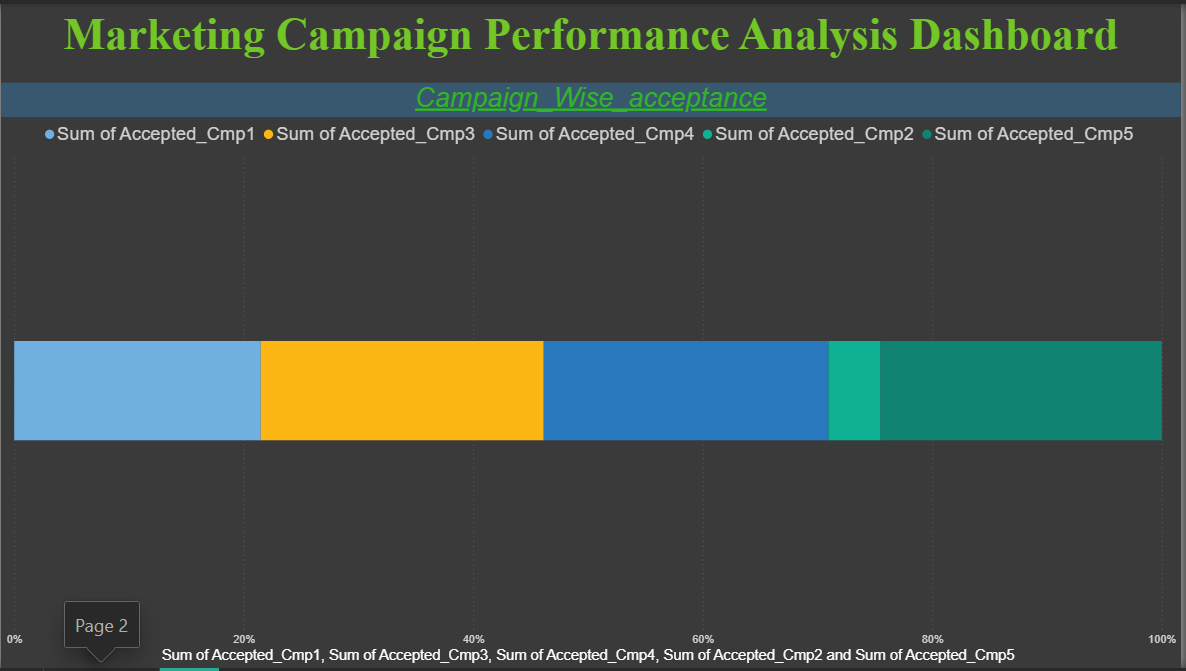

The dashboard page shown, as its layout file describes it:
{"tool":"powerbi","page":{"name":"Page 2","canvas":[1280,720],"ordinal":1},"visuals":[{"type":"hundredPercentStackedBarChart","title":"Campaign_Wise_acceptance","fields":{"Y":["Sum(Campaign.Accepted_Cmp1)","Sum(Campaign.Accepted_Cmp3)","Sum(Campaign.Accepted_Cmp4)","Sum(Campaign.Accepted_Cmp2)","Sum(Campaign.Accepted_Cmp5)"]},"box":[0,85,1279.4,635],"z":0},{"type":"textbox","box":[0,0,1279.4,85],"z":1000}]}

Visuals, with their boxes in screenshot pixels (x1, y1, x2, y2), scaled from the page's 1280x720 canvas onto the 1186x671 screenshot:
"Campaign_Wise_acceptance" hundredPercentStackedBarChart: 0:79:1185:670
textbox: 0:0:1185:79
